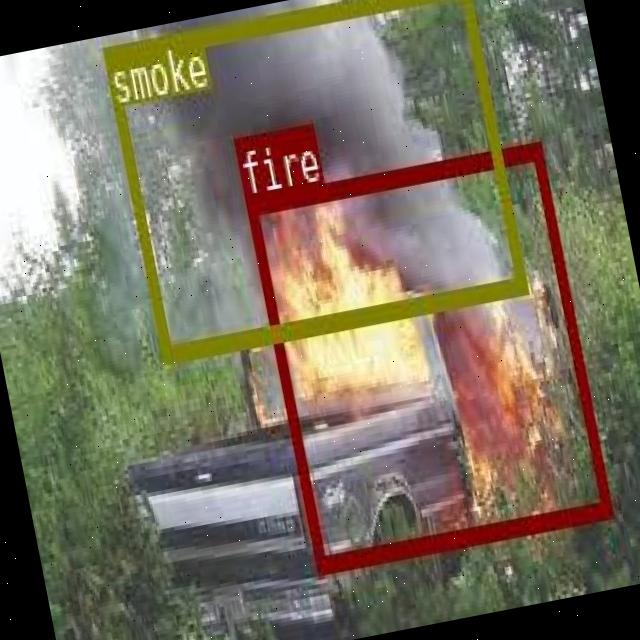fire: (244, 140, 611, 569)
smoke: (100, 0, 526, 362)
